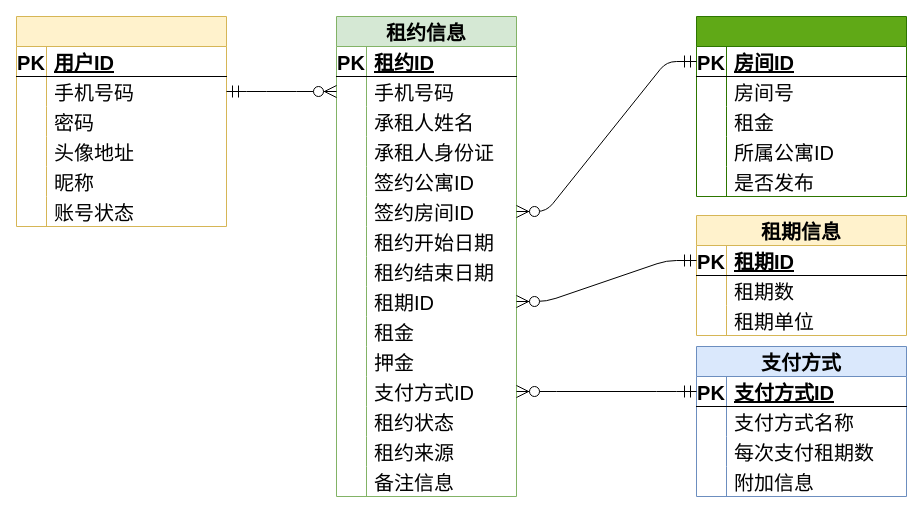
Some shapes in this 923 by 513 pixel diagram are drawn without their labels. The box of each missing label's shape, as (x1, y1, x2, y2) in pixels:
房间信息: (696, 16, 906, 196)
用户信息: (16, 16, 226, 226)
